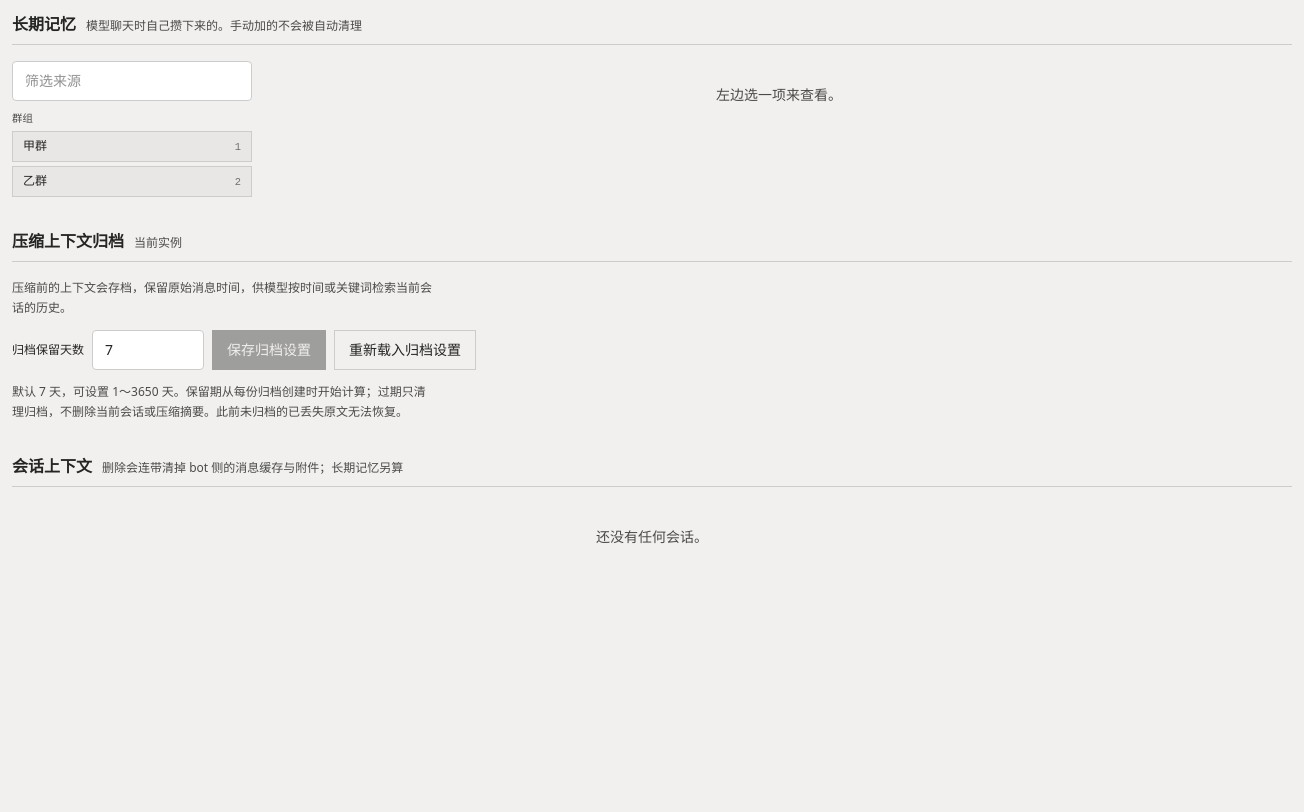
Test: 记忆页的那一句提示 › 「已添加」不被紧跟那次重读的失败盖掉，两路的原因各接一句
Click the button "甲群 1" at (132, 147), box [12,131,252,162]
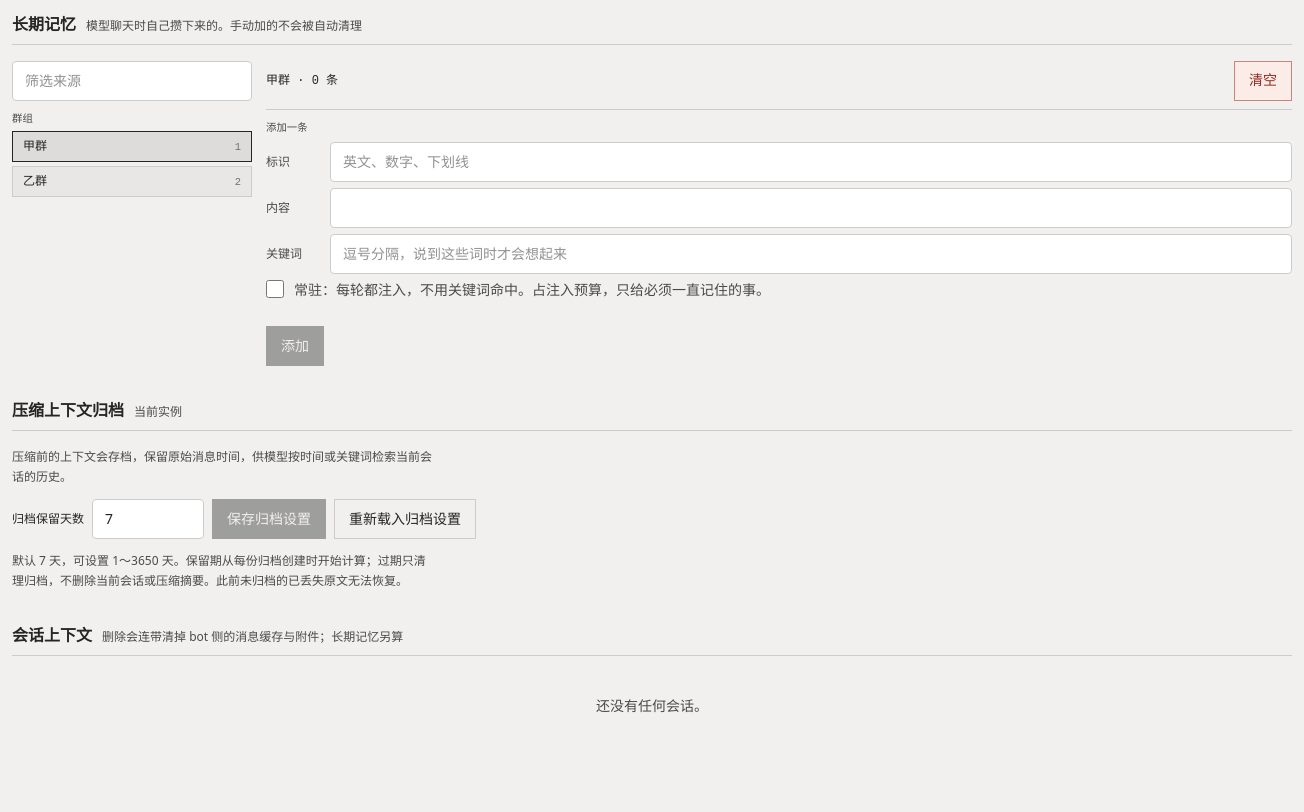
Check: the field labelled "内容" is enabled, box [330,188,1292,228]
Type "note_1" into the field labelled "标识" at (811, 162), box [330,142,1292,182]
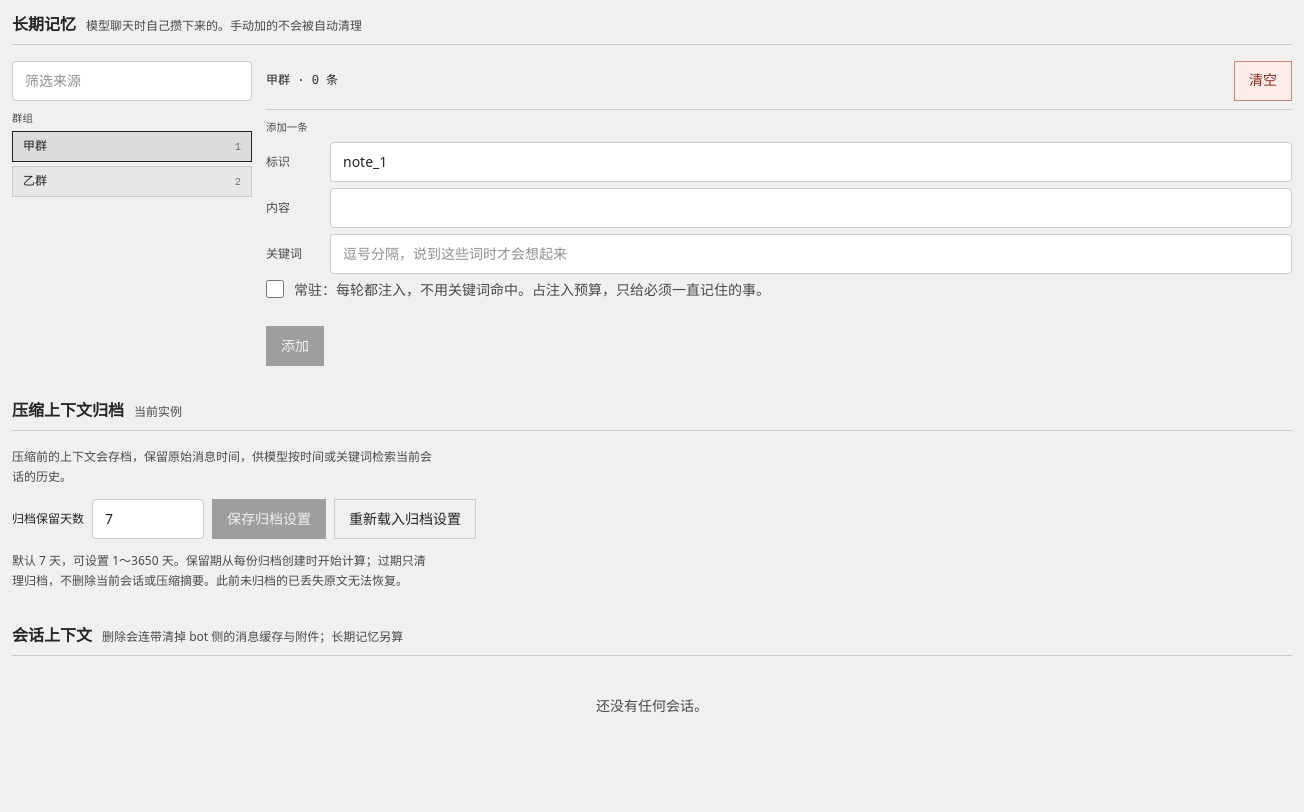
Type "记一笔" into the field labelled "内容" at (811, 208), box [330,188,1292,228]
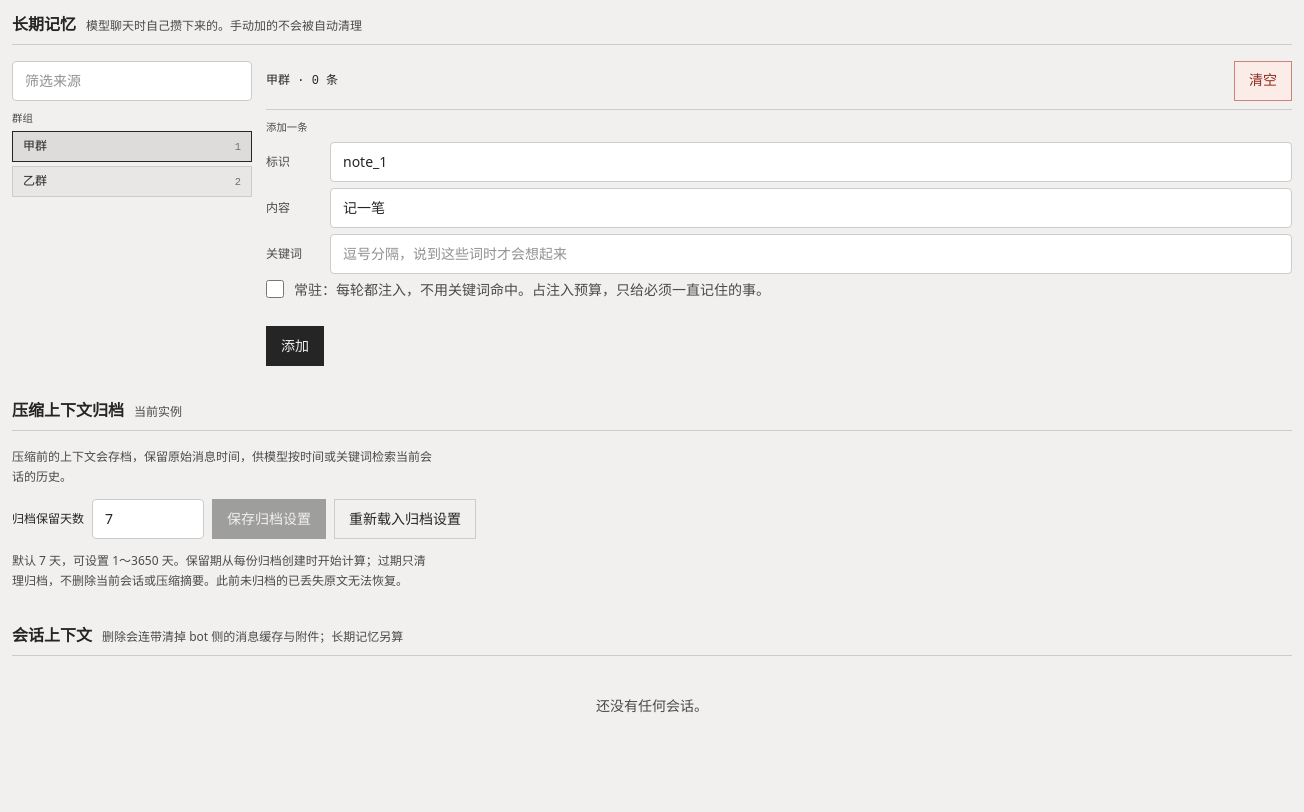
Click the button "添加" at (295, 346), box [266,326,324,366]
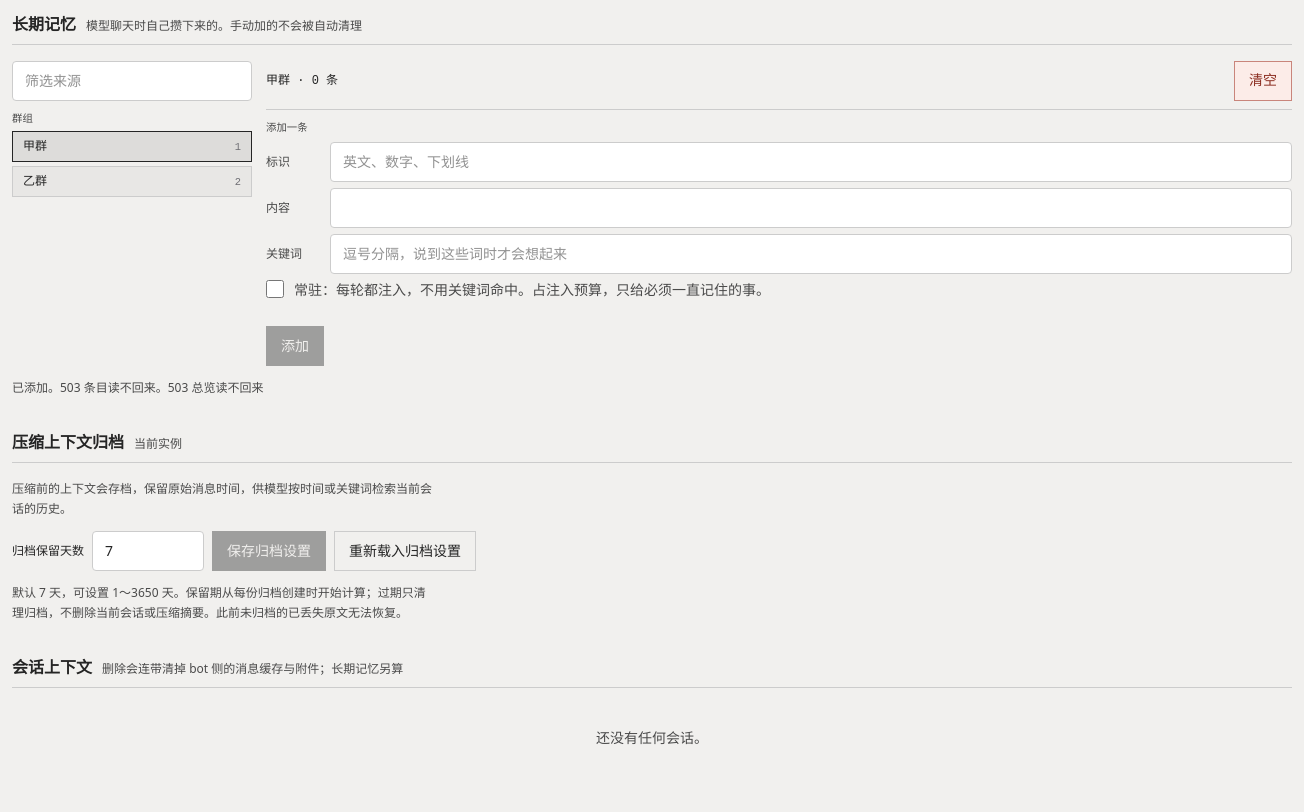
Check: the text "已添加。503 条目读不回来。503 总览读不回来" is shown, box [12,379,263,396]
